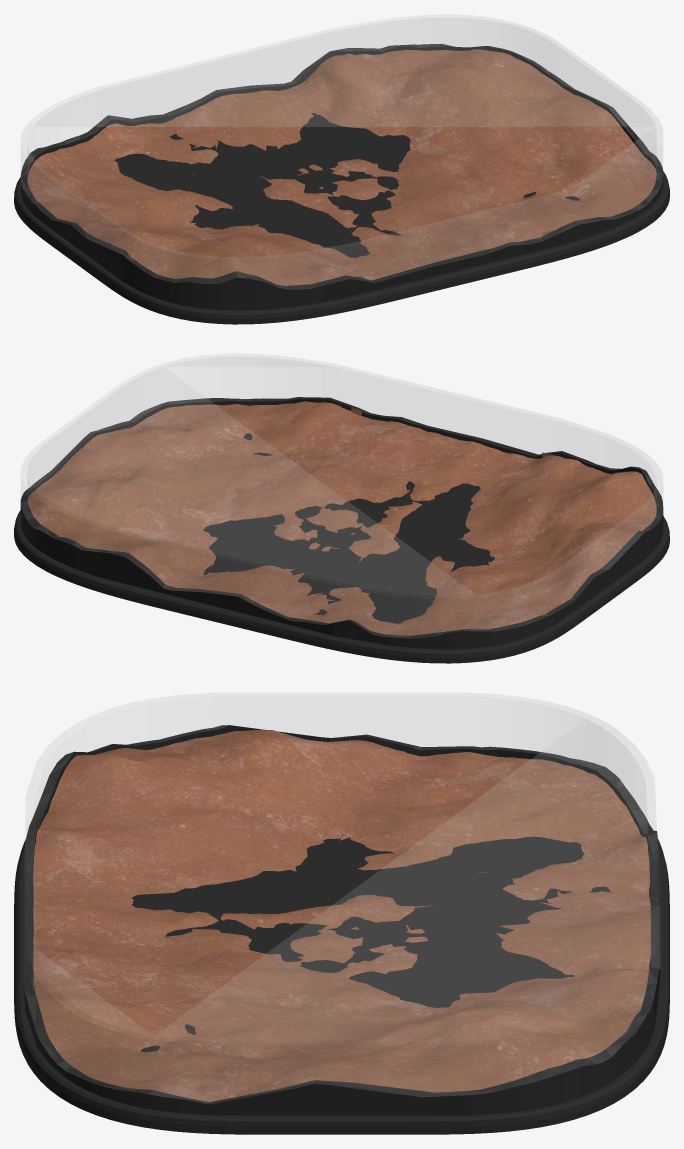
Rendered from MarsPlatform3.fbx.
The picture shows the model from 3 angles, top to bottom: view 1: azimuth 30°, elevation 25°; view 2: azimuth 150°, elevation 25°; view 3: azimuth 270°, elevation 25°; orthographic projection. The views are drawn at different scales.
Visible parts, largest first — view 1: Landscape inside, Rails Glass, Rails opaque, Rails.Base; view 2: Rails Glass, Landscape inside, Rails opaque, Rails.Base; view 3: Landscape inside, Rails Glass, Rails opaque, Rails.Base.
Part boxes in pixels (left/top/right/bottom): Landscape inside: left=27, top=49, right=656, bottom=285; Rails Glass: left=21, top=15, right=662, bottom=289; Rails opaque: left=20, top=43, right=663, bottom=310; Rails.Base: left=14, top=171, right=669, bottom=324; Rails Glass: left=21, top=354, right=662, bottom=637; Landscape inside: left=27, top=401, right=656, bottom=635; Rails opaque: left=20, top=397, right=663, bottom=649; Rails.Base: left=14, top=510, right=669, bottom=663; Landscape inside: left=33, top=729, right=650, bottom=1102; Rails Glass: left=25, top=693, right=659, bottom=1103; Rails opaque: left=23, top=725, right=660, bottom=1115; Rails.Base: left=14, top=824, right=669, bottom=1134.
Size of the model in its own units: 3316 by 365 by 2547.
Materials: 3 (1 with a texture image).
